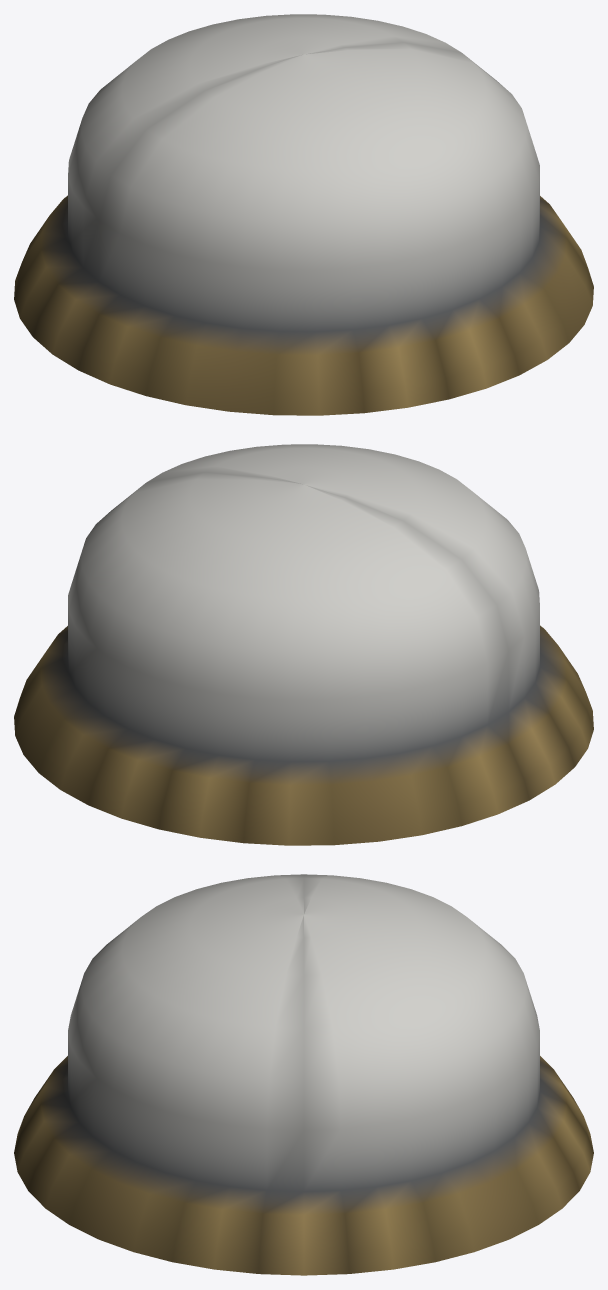
File: seis-shield.glb
3 views of the same model, one above another, from view 1: azimuth 30°, elevation 25°; view 2: azimuth 150°, elevation 25°; view 3: azimuth 270°, elevation 25° (orthographic).
Visible parts, largest first — view 1: insight-seis-shield; view 2: insight-seis-shield; view 3: insight-seis-shield.
Part boxes in pixels (bbox=[...]): insight-seis-shield: bbox=[14, 14, 593, 415]; insight-seis-shield: bbox=[14, 444, 593, 845]; insight-seis-shield: bbox=[14, 874, 593, 1275].
Size of the model in its own units: 0.86 by 0.39 by 0.86.
